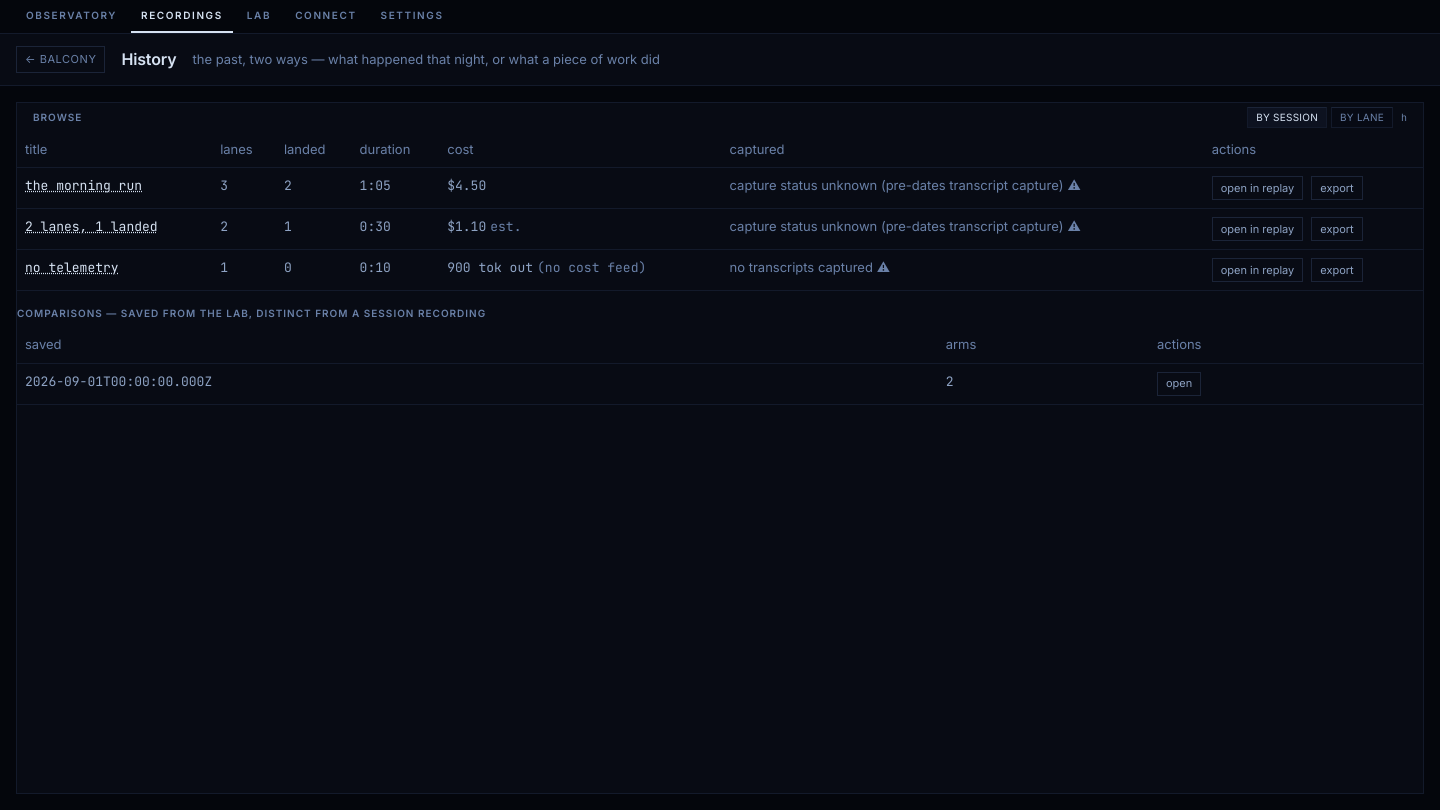
Test: RecordingsPage › comparisons (prd-14 ruling 5, #214) › never claims a measure on reopen — the artifact carries none, so none is guessed, and no numeric summary is shown
expect the table with test id "comparisons-table" is shown: met, box [17, 327, 1423, 404]
Click the button with test id "comparison-open-c1" at (1179, 384), box [1157, 372, 1201, 396]
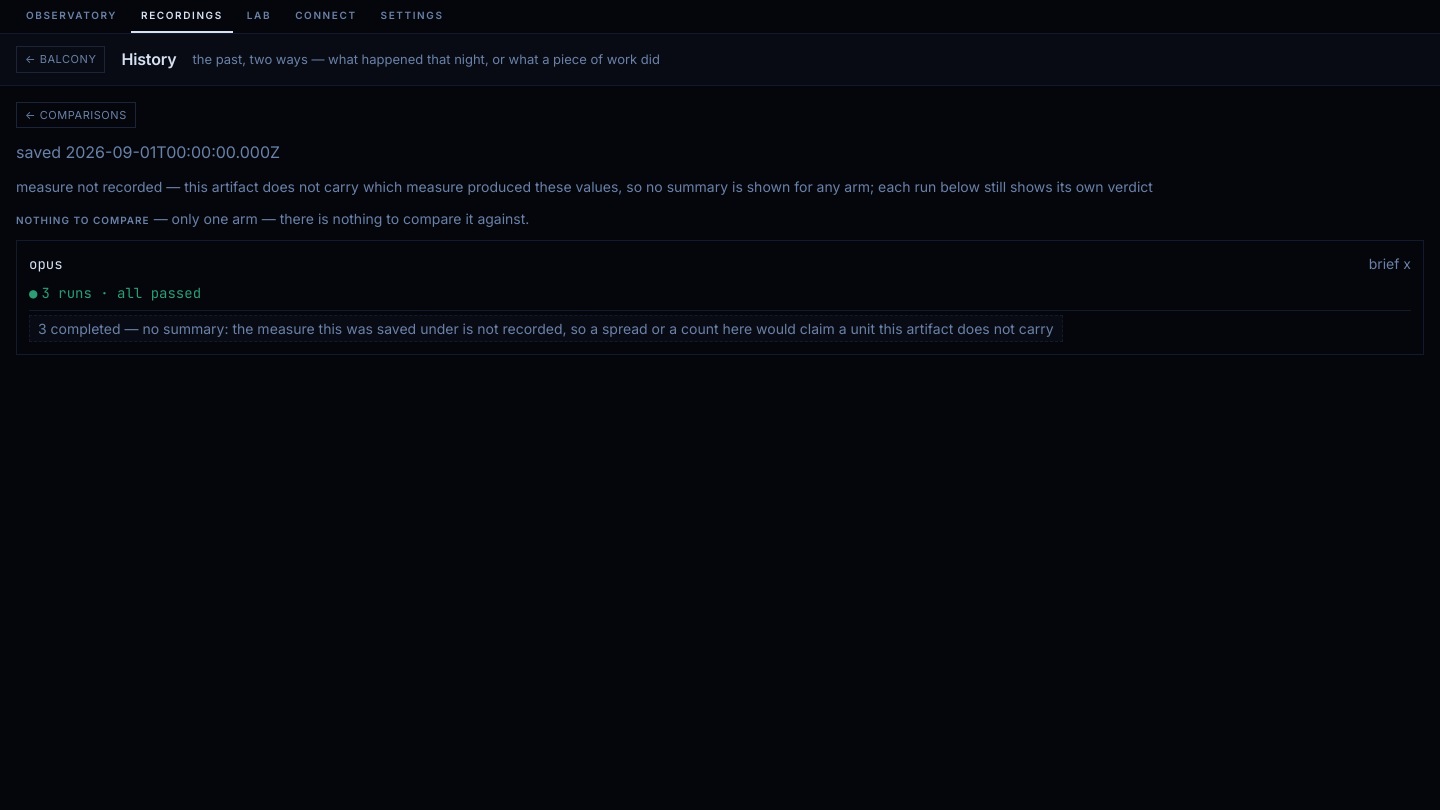
expect the element with test id "comparison-surface" is shown: met, box [16, 176, 1424, 355]
expect the text with test id "comparison-basis" shows "measure not recorded": met, box [16, 178, 1153, 195]
expect the message with test id "arm-basis-unknown" is shown: met, box [29, 315, 1063, 342]
